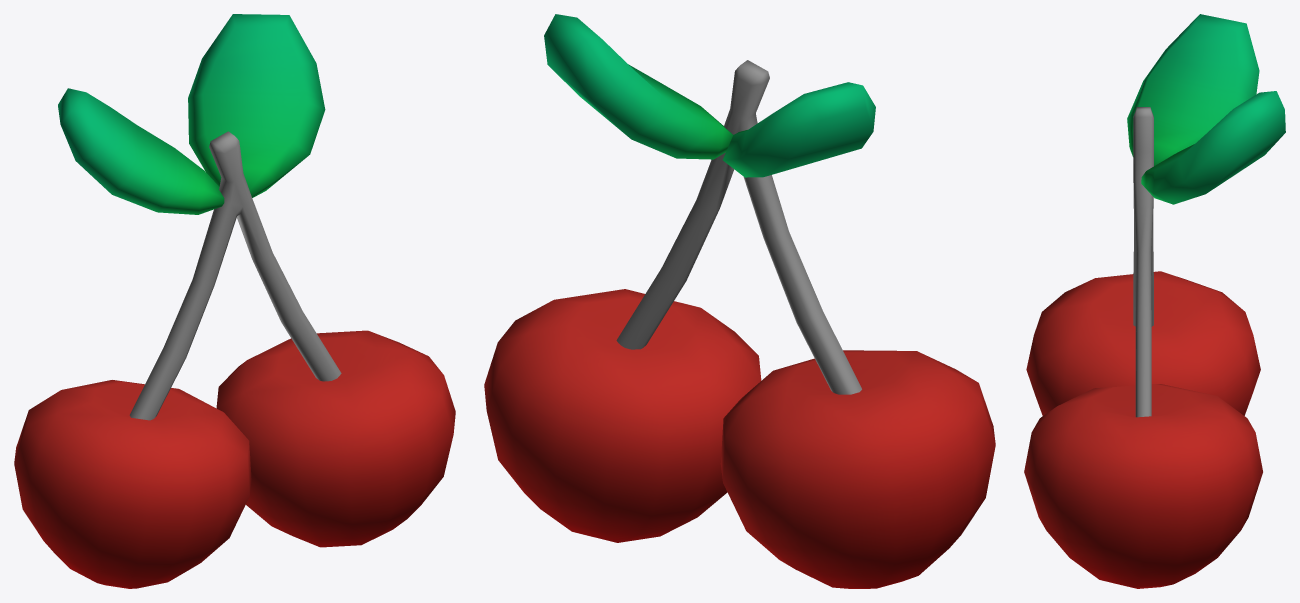
The model's file is berries_001.glb.
3 views of the same model, side by side, from view 1: azimuth 30°, elevation 25°; view 2: azimuth 150°, elevation 25°; view 3: azimuth 270°, elevation 25° (orthographic). The views are drawn at different scales.
Parts seen in each view (by area): view 1: berries_001; view 2: berries_001; view 3: berries_001.
Part boxes in pixels (x1,y1,x2,y2): berries_001: (14, 14, 455, 588); berries_001: (484, 14, 995, 588); berries_001: (1024, 14, 1285, 588).
Size of the model in its own units: 0.9139 by 1.03 by 0.5175.
Materials: 1 (1 with a texture image).
